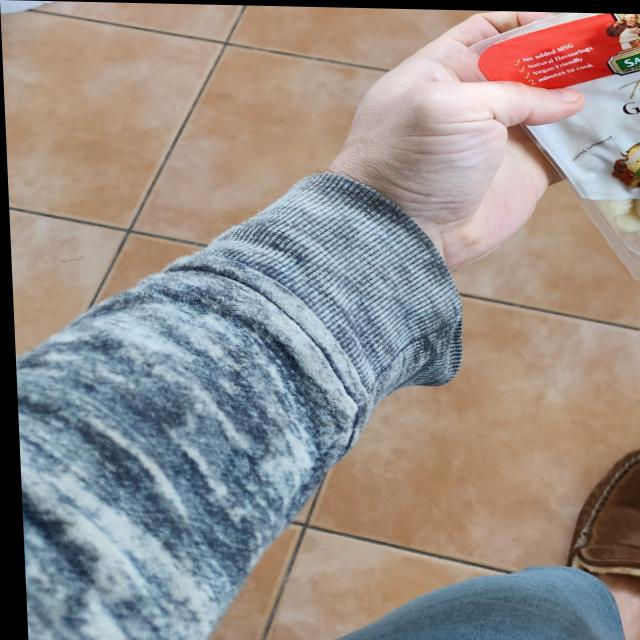gnocchi: (461, 9, 640, 274)
